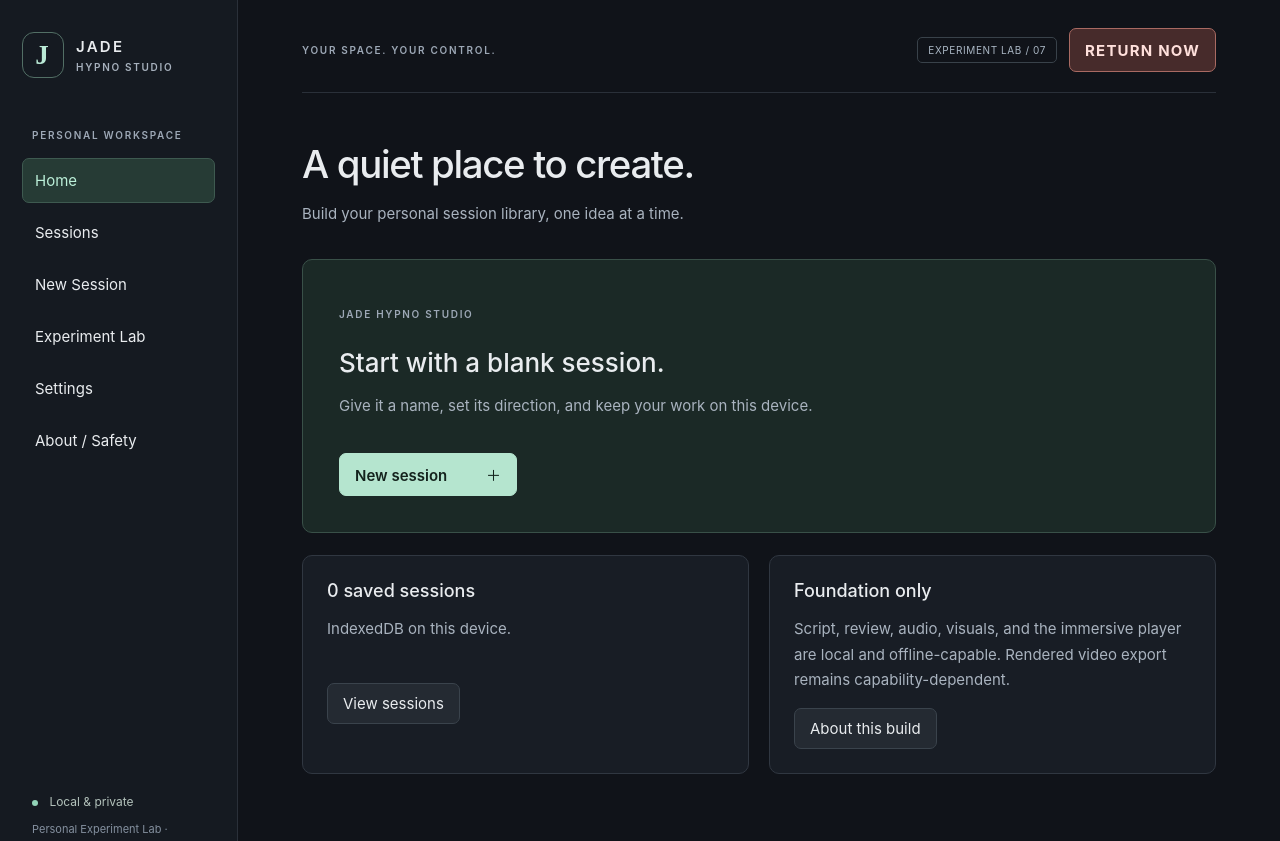
Test: foundation views › preserves editor and blocks navigation when saving fails
This screenshot has width=1280, height=841.
Expected: the button "New session ＋" is enabled, [339,453,517,496]
Click the button "Sessions" at (118, 232), box [22,210,215,255]
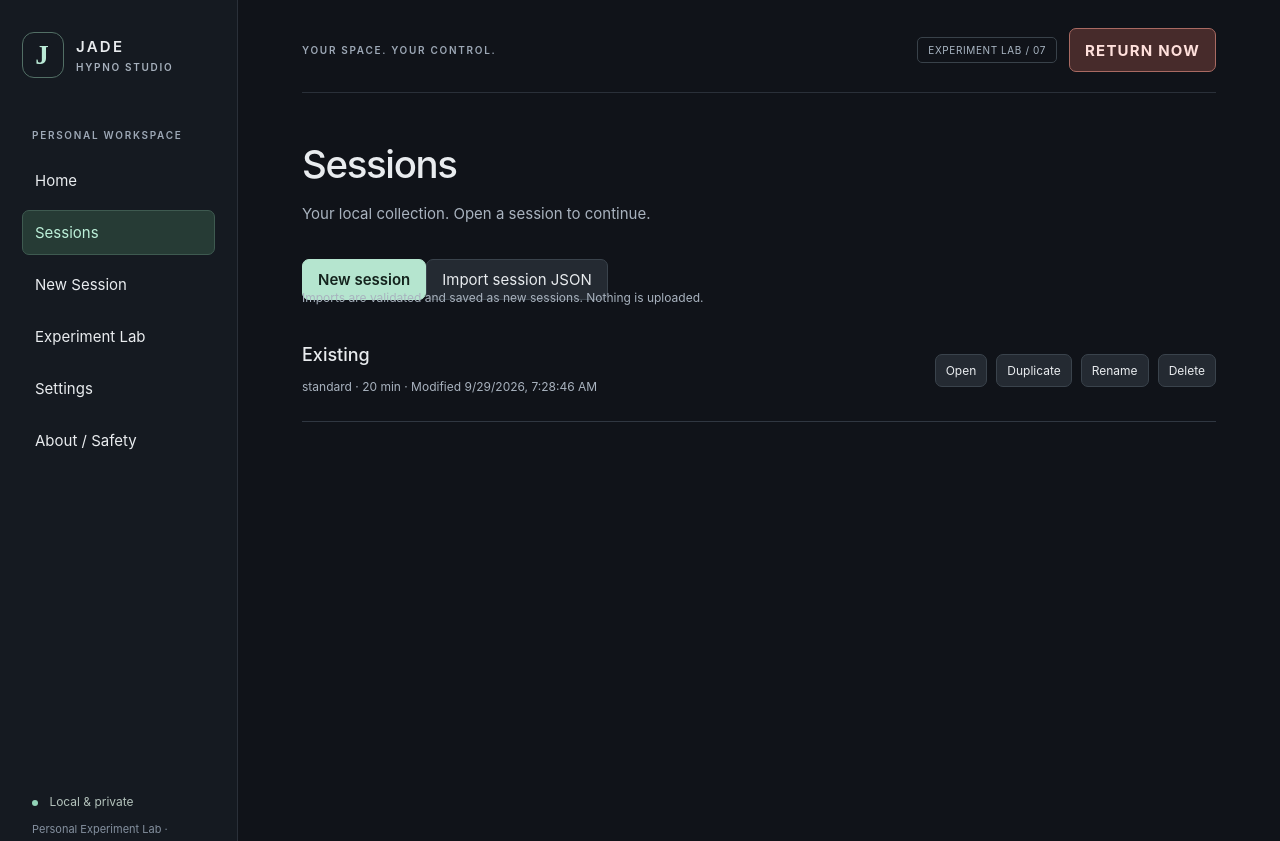
Click the button named "Open Existing" at (961, 371), box [935,354,987,387]
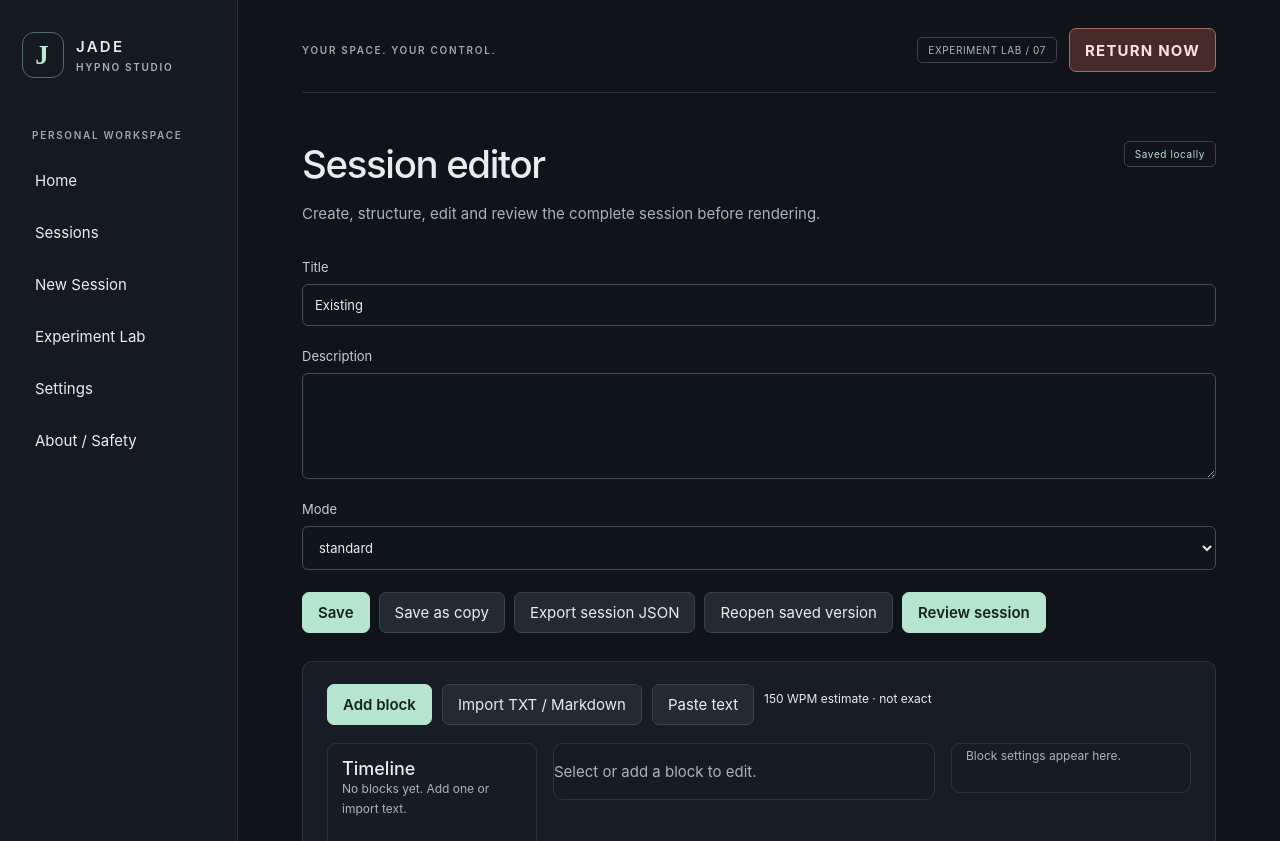
Type "Keep these edits" into the text box labelled "Description" at (759, 426), box [302,372,1216,478]
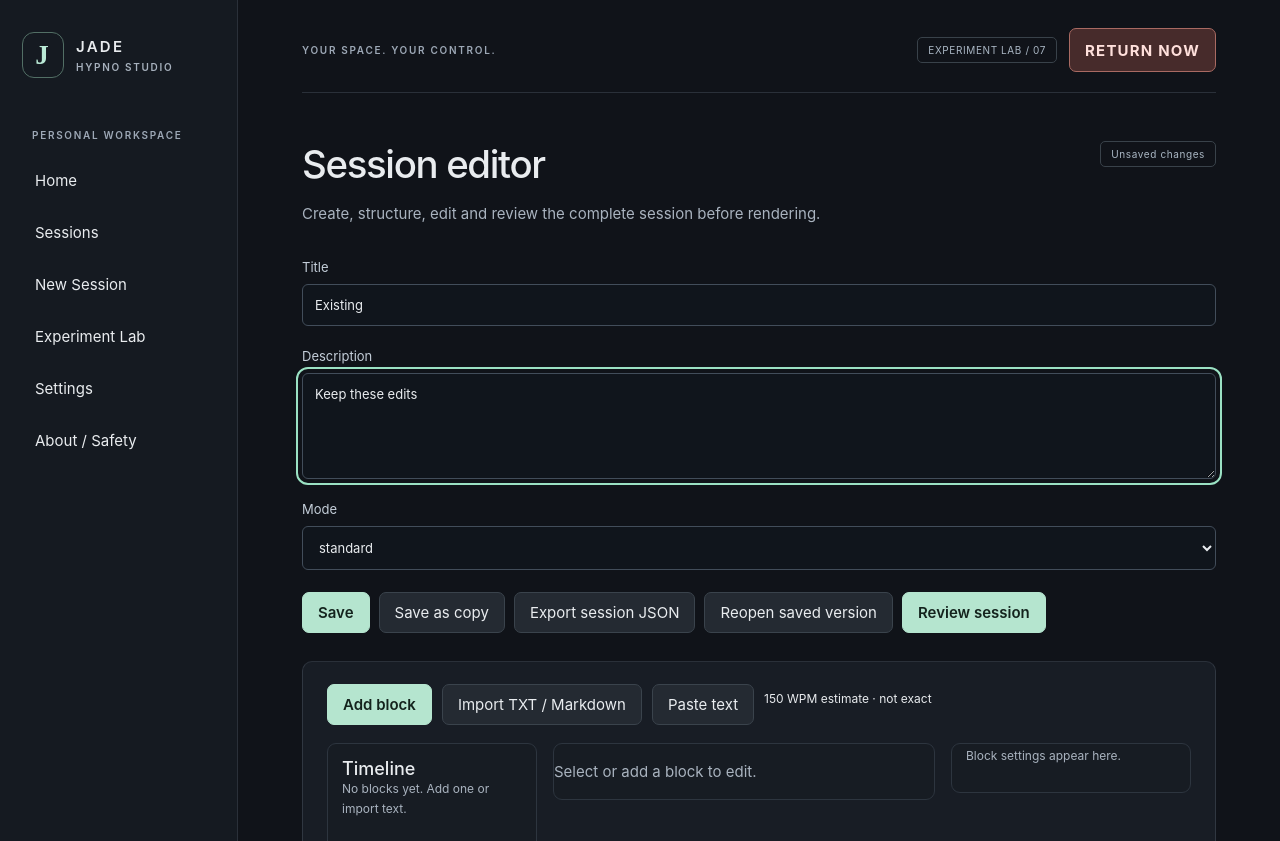
Click the button "Home" at (118, 180), box [22,158,215,203]
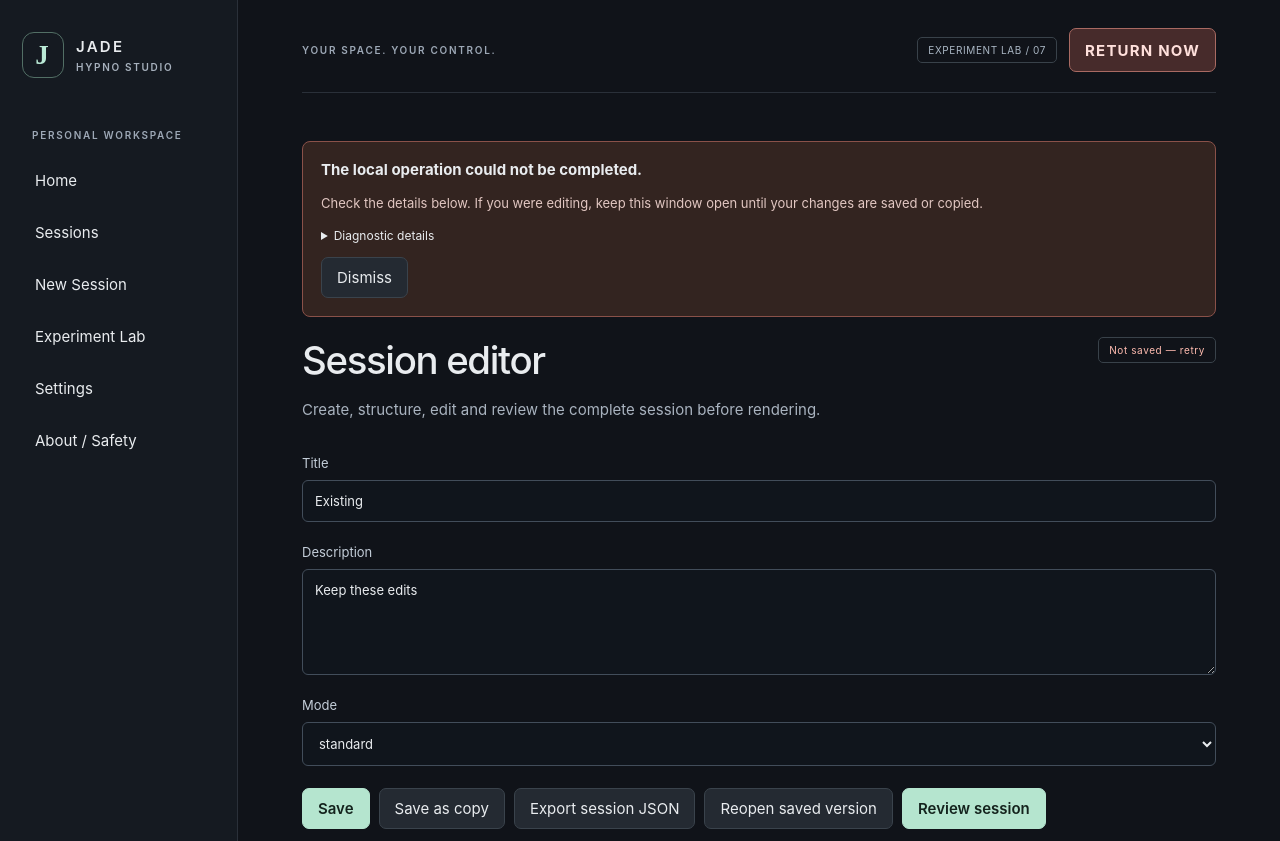
Expected: the 1st message shows "local operation could not be completed", [321,160,642,179]
Expected: the text "Not saved — retry" is shown, [1098,337,1216,363]
